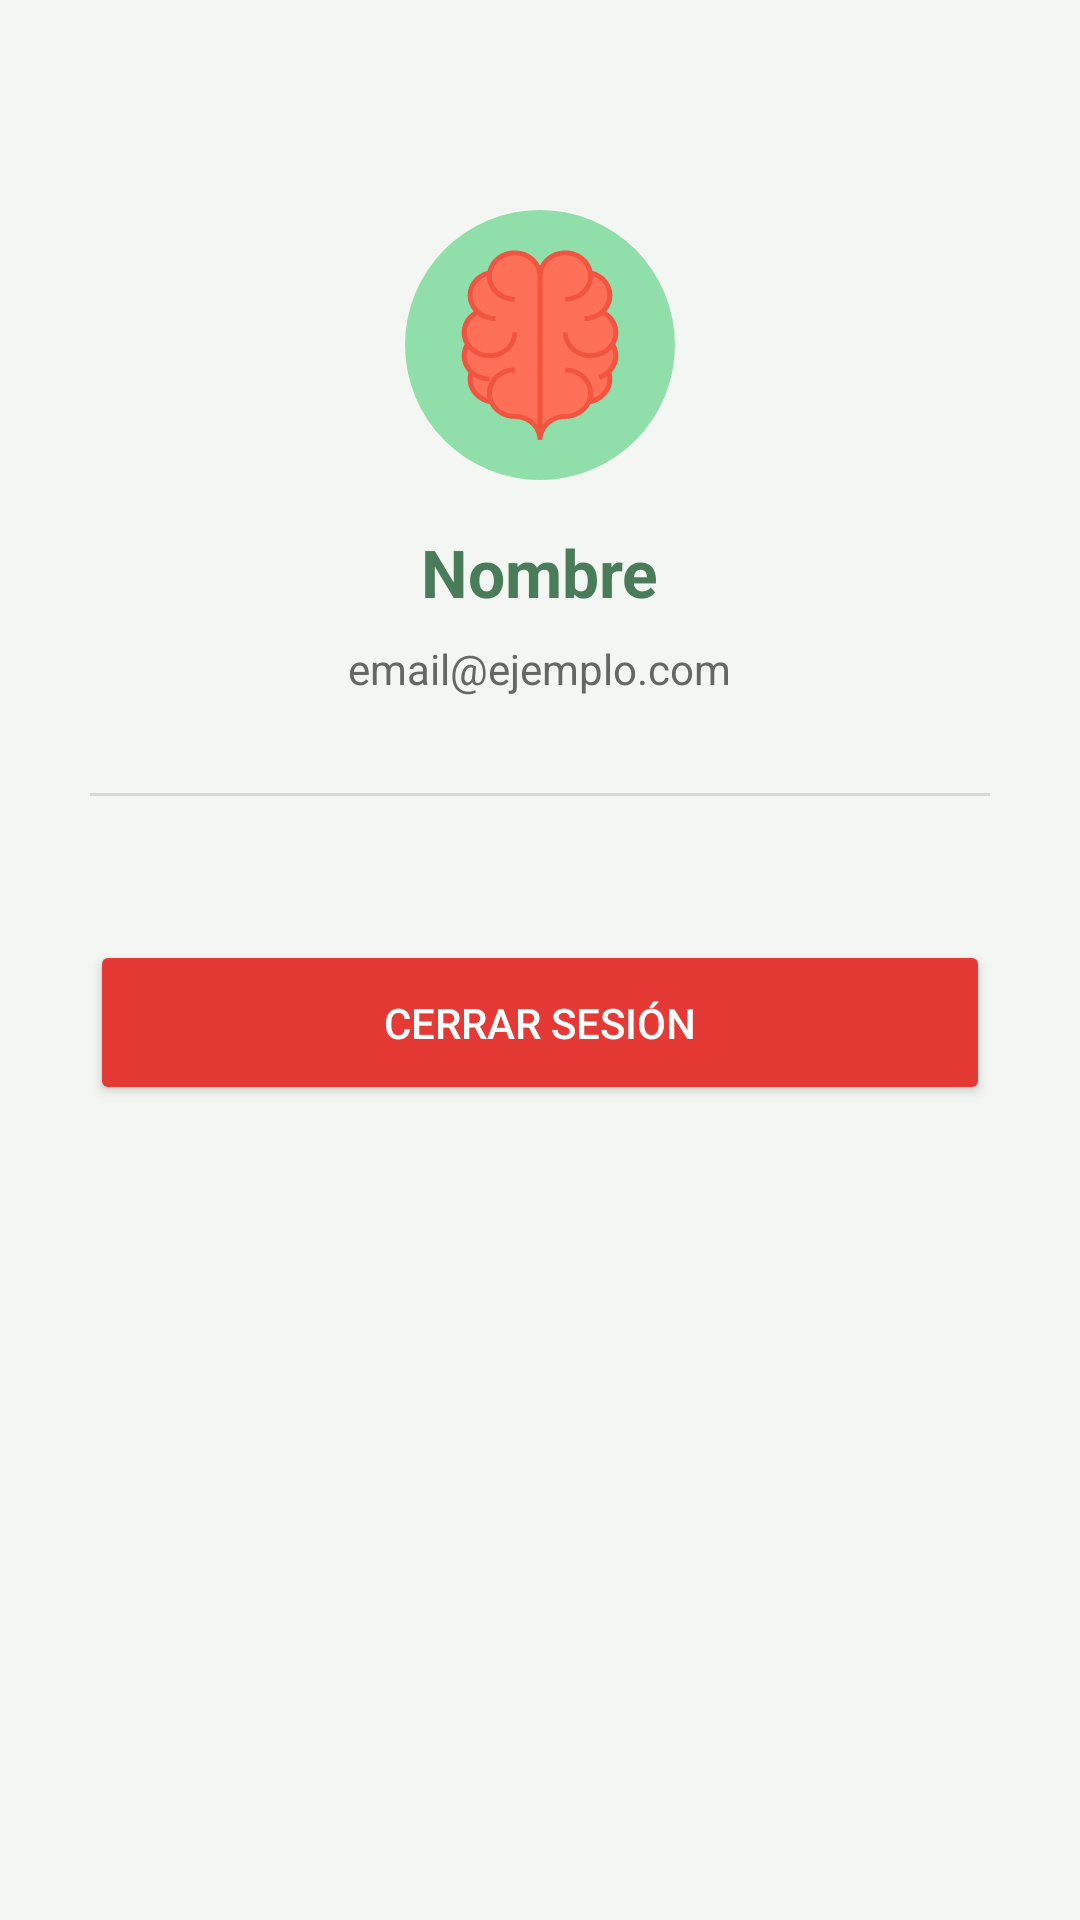

Icon click points for this 1080 × 1920 phone screenshot, format point (x, y):
brain: point (540, 345)
